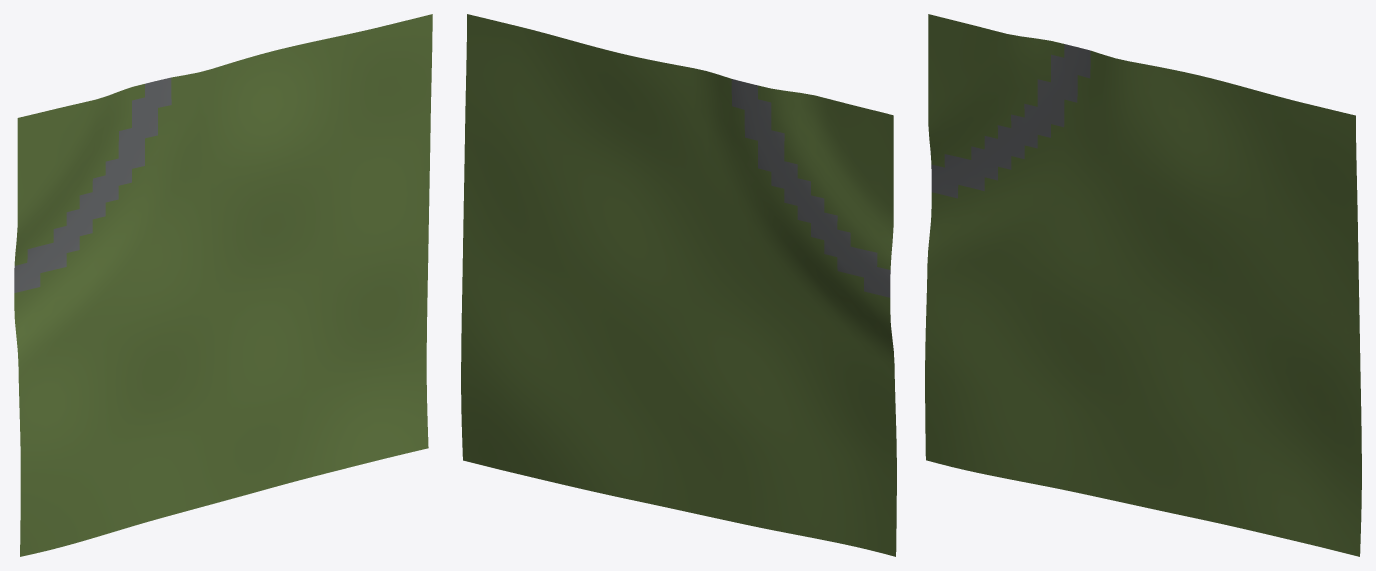
File: island_terrain_24_05.obj
3 views of the same model, side by side, from view 1: azimuth 30°, elevation 25°; view 2: azimuth 150°, elevation 25°; view 3: azimuth 330°, elevation 25° (orthographic).
Parts seen in each view (by area): view 1: island_terrain_24_05; view 2: island_terrain_24_05; view 3: island_terrain_24_05.
Boxes of the visible parts, x1,y1,x2,y2 form: island_terrain_24_05: [14, 14, 432, 556]; island_terrain_24_05: [461, 14, 896, 556]; island_terrain_24_05: [925, 14, 1361, 556].
Bounding box in the file's own units: 256 × 256 × 13.97.
